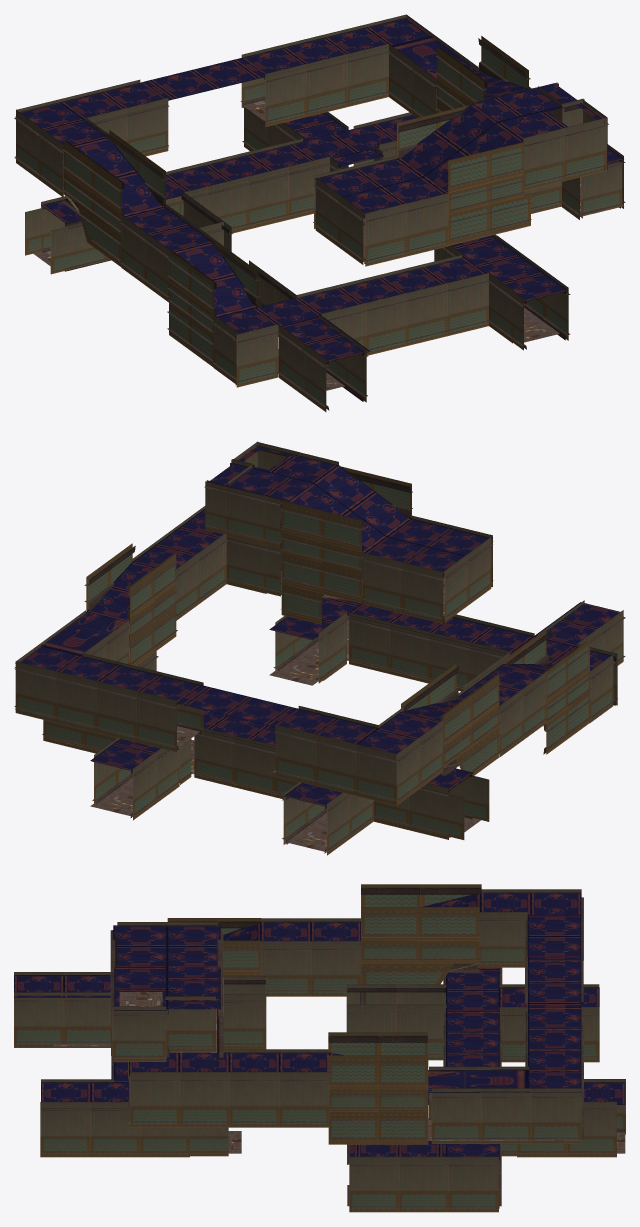
The model's file is Layout_Floor02.glb.
3 views of the same model, one above another, from view 1: azimuth 30°, elevation 25°; view 2: azimuth 150°, elevation 25°; view 3: azimuth 270°, elevation 25° (orthographic). The views are drawn at different scales.
Visible parts, largest first — view 1: Layout_Floor02; view 2: Layout_Floor02; view 3: Layout_Floor02.
Part boxes in pixels (<box>): Layout_Floor02: <box>14,14,625,411</box>; Layout_Floor02: <box>14,441,625,855</box>; Layout_Floor02: <box>14,884,625,1212</box>.
Bounding box in the file's own units: 45.64 × 18.15 × 53.37.
3 materials, 3 textured.
